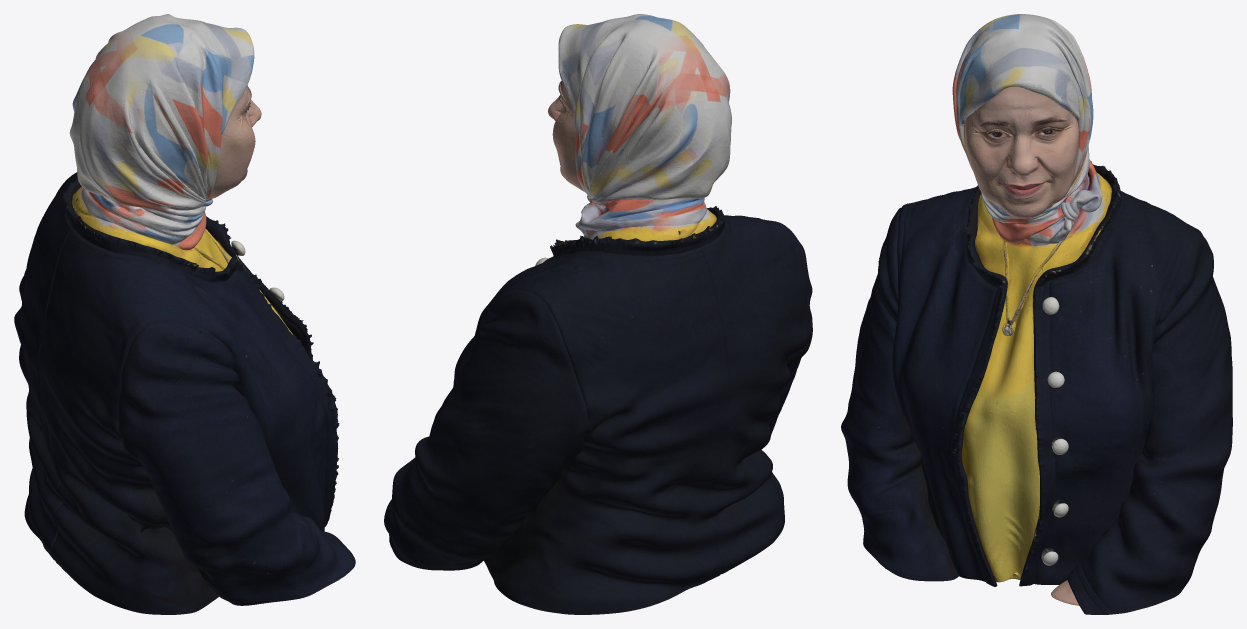
File: embajadora3d.glb
3 views of the same model, side by side, from view 1: azimuth 30°, elevation 25°; view 2: azimuth 150°, elevation 25°; view 3: azimuth 270°, elevation 25° (orthographic). The views are drawn at different scales.
Visible parts, largest first — view 1: tripo_node_0af29df5-d5aa-4607-ae67-db4a7fcc5757; view 2: tripo_node_0af29df5-d5aa-4607-ae67-db4a7fcc5757; view 3: tripo_node_0af29df5-d5aa-4607-ae67-db4a7fcc5757.
Part boxes in pixels (x1=…): tripo_node_0af29df5-d5aa-4607-ae67-db4a7fcc5757: x1=14, y1=14, x2=355, y2=614; tripo_node_0af29df5-d5aa-4607-ae67-db4a7fcc5757: x1=384, y1=14, x2=812, y2=614; tripo_node_0af29df5-d5aa-4607-ae67-db4a7fcc5757: x1=841, y1=14, x2=1232, y2=614.
Size of the model in its own units: 0.6309 by 0.9797 by 0.6981.
1 material, 1 textured.
